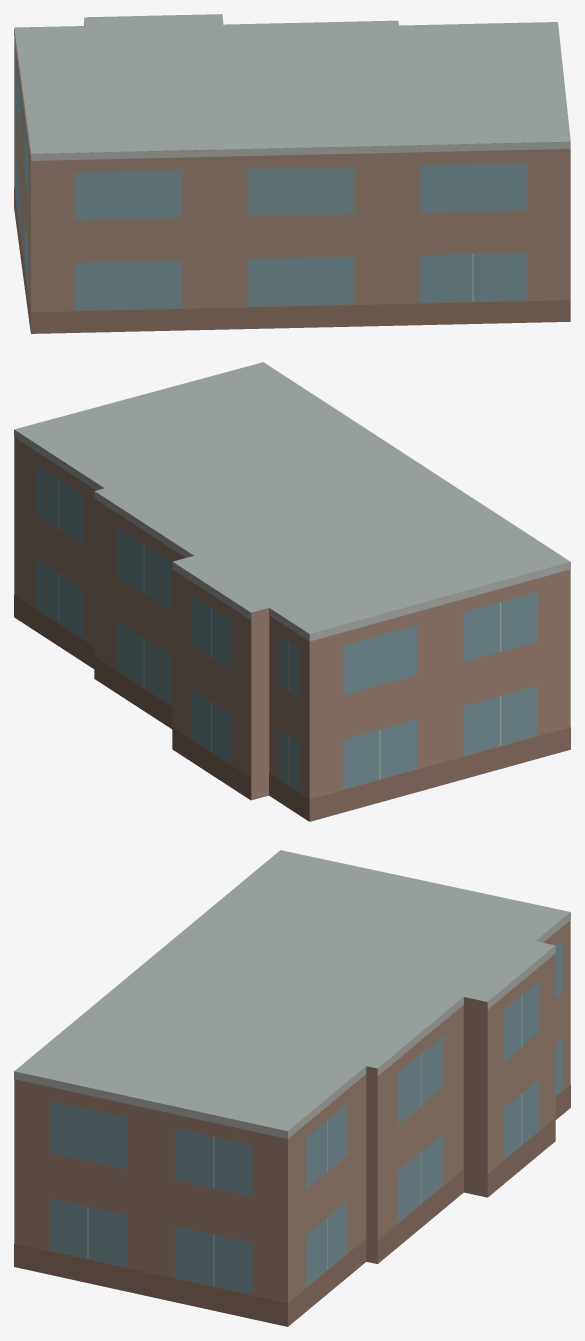
Rendered from survey-upis-32830384.glb.
3 renders of one model, top to bottom at view 1: azimuth 30°, elevation 25°; view 2: azimuth 150°, elevation 25°; view 3: azimuth 270°, elevation 25°, orthographic. The views are drawn at different scales.
Parts seen in each view (by area): view 1: survey-upis-32830384.tmp; view 2: survey-upis-32830384.tmp; view 3: survey-upis-32830384.tmp.
Boxes of the visible parts, bbox=[...] form: survey-upis-32830384.tmp: bbox=[14, 14, 570, 333]; survey-upis-32830384.tmp: bbox=[14, 362, 570, 821]; survey-upis-32830384.tmp: bbox=[14, 850, 570, 1326].
Bounding box in the file's own units: 18.82 × 6.1 × 15.74.
